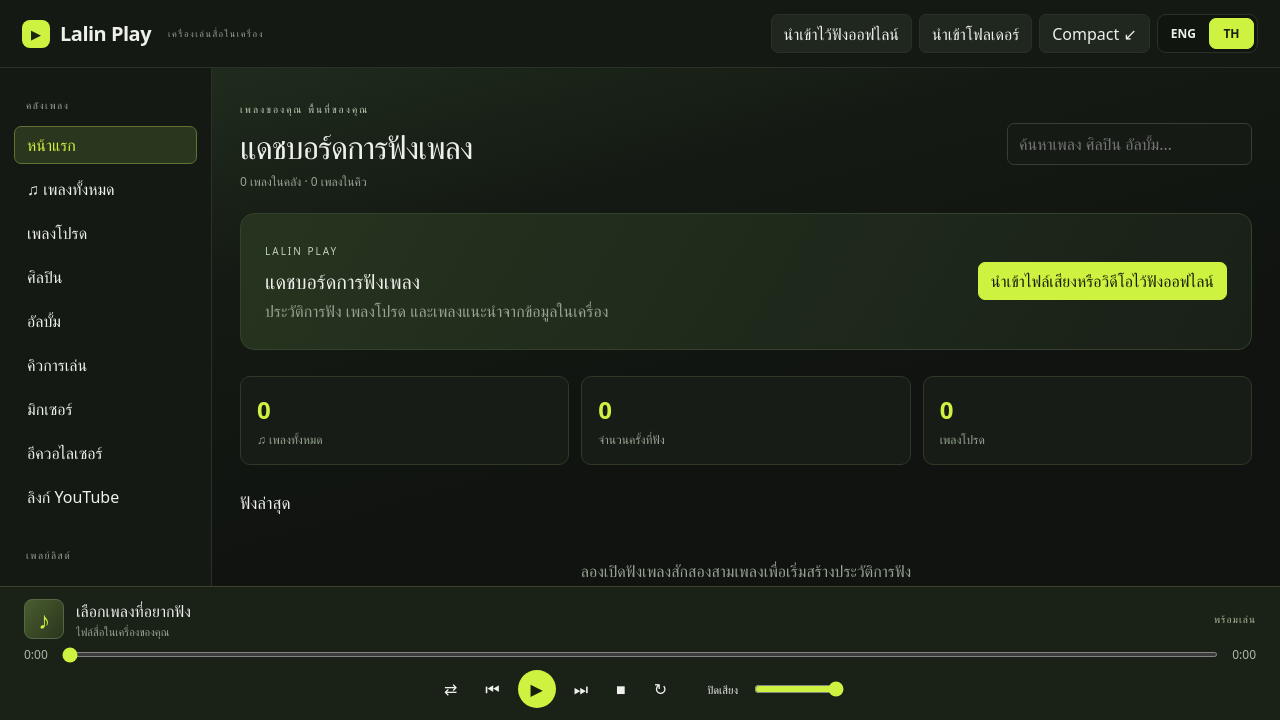
it: standalone surfaces (mocked IPC; native evidence is separate) › exposes only real media/master mixer channels and persists media controls
Click the button "มิกเซอร์" at coordinates (106, 409), box [14,390,197,428]
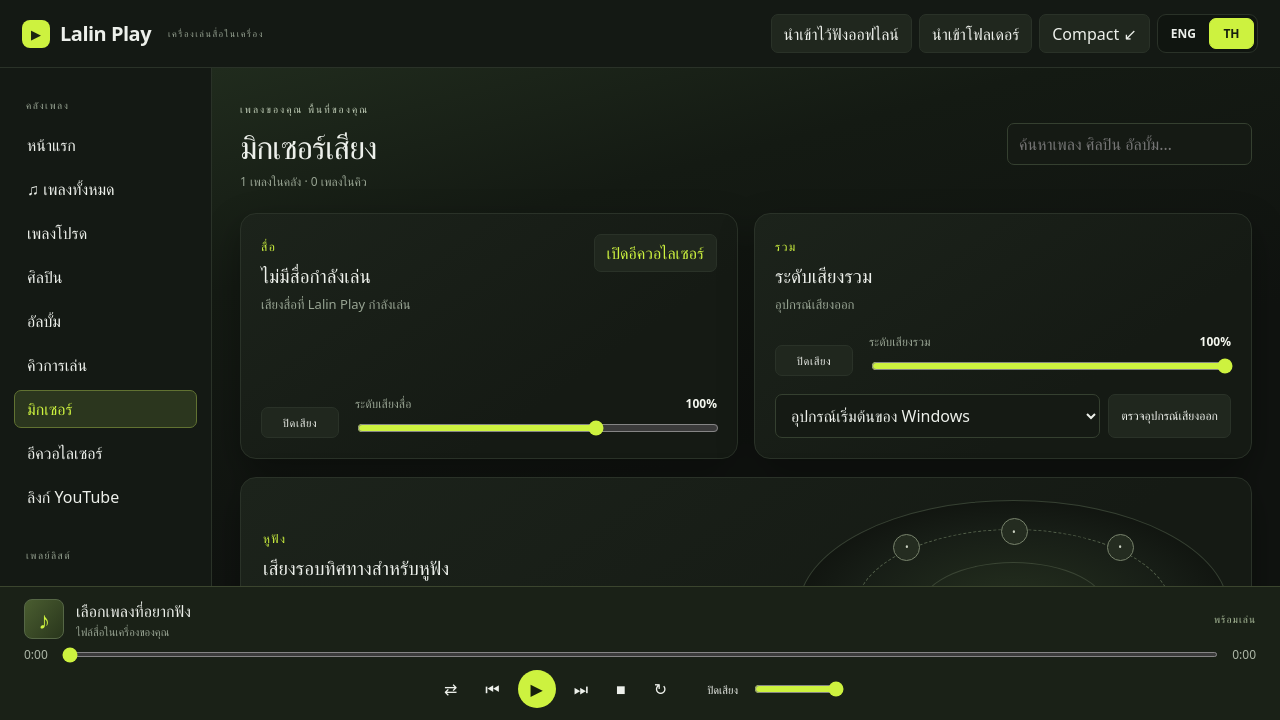
Expected: the text "สื่อ" is shown, [261,238,276,255]
Expected: the text "รวม" is shown, [775,238,797,255]
Set the slider named "ระดับเสียงสื่อ" to "1.25" at coordinates (653, 428), box [357,420,719,436]
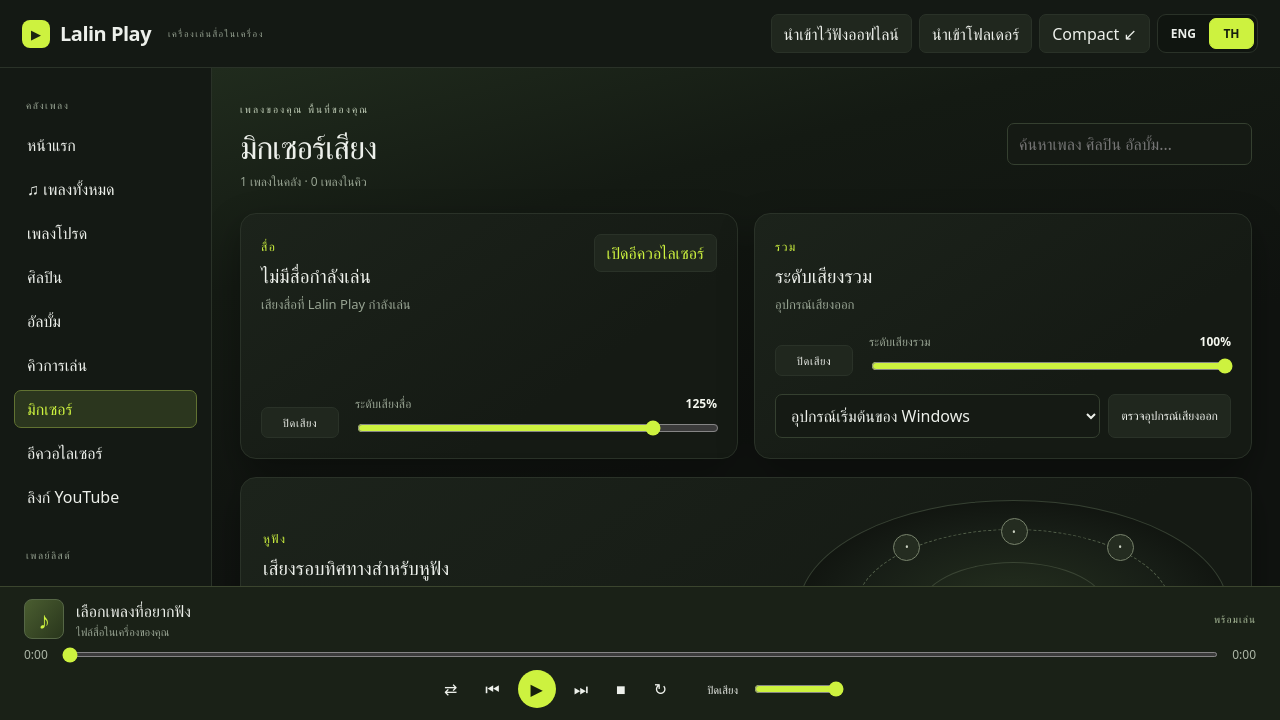
Click the button with aria-label "ปิดเสียงช่องสื่อ" at coordinates (300, 422), box [261,407,339,438]
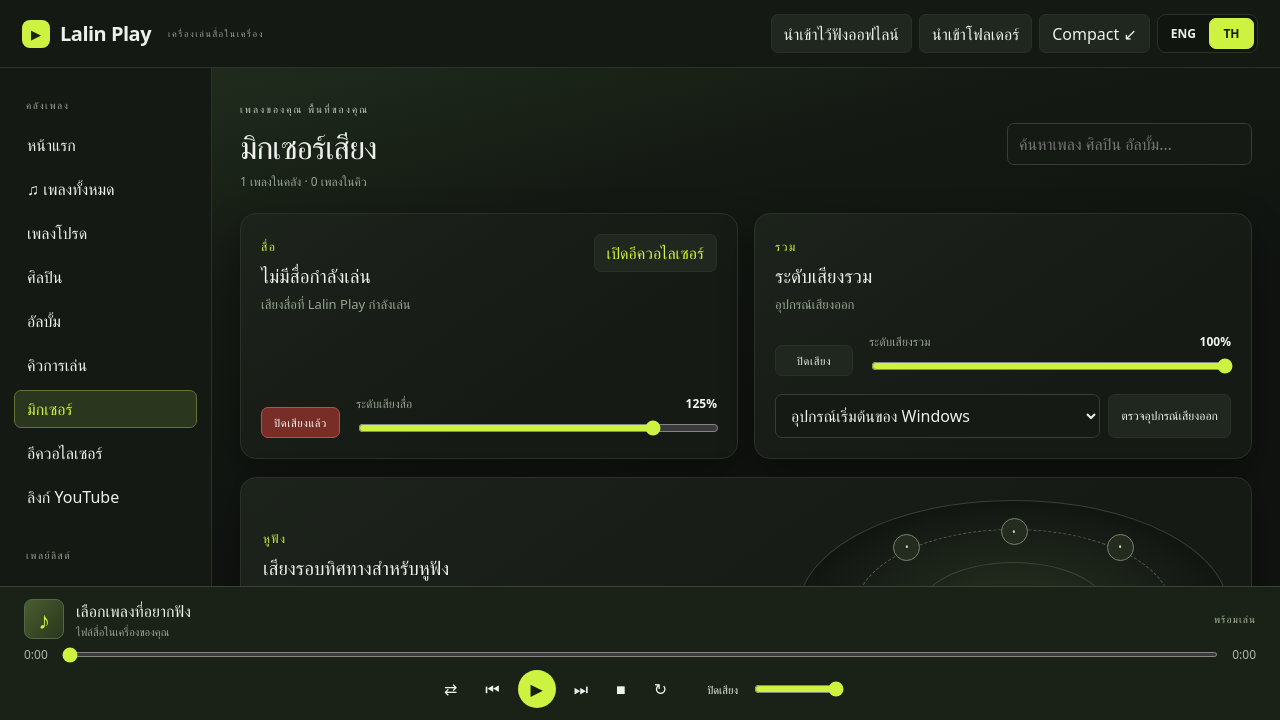
Expected: the button "ปิดเสียงแล้ว" is shown, [261,407,340,438]
Click the button "เปิดอีควอไลเซอร์" at coordinates (655, 253), box [594,234,717,272]
(page scrolled)
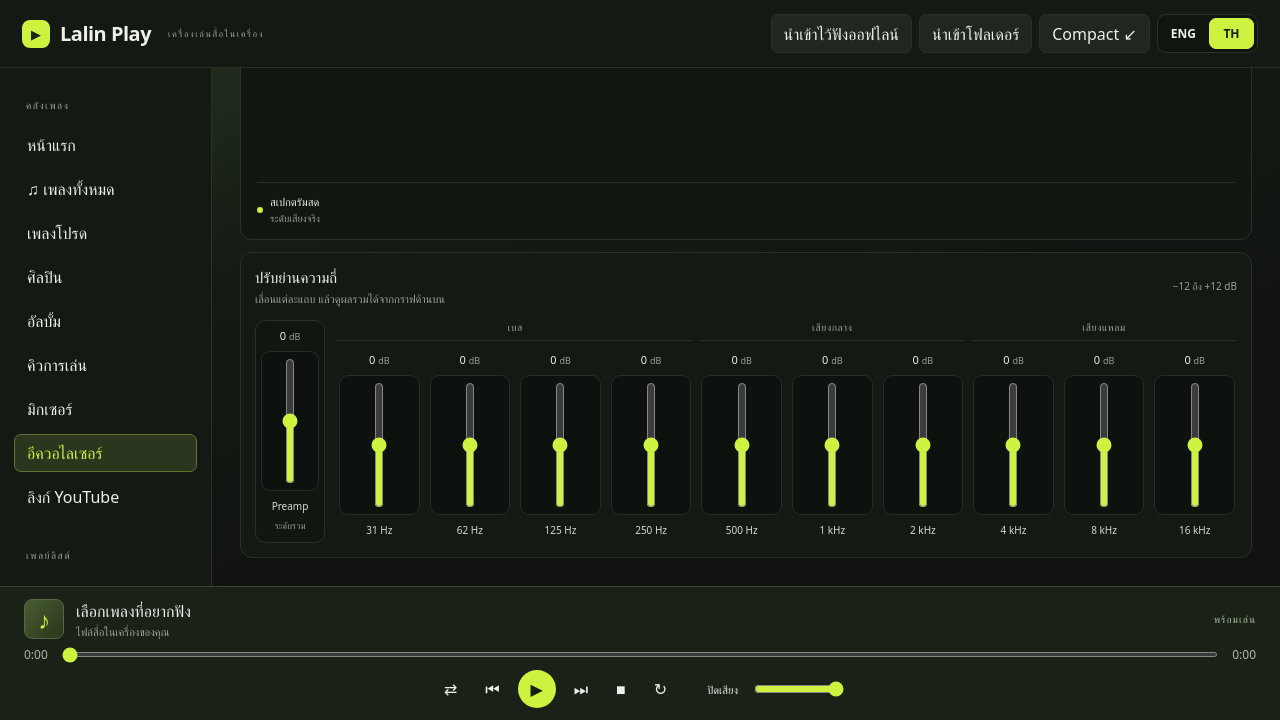
Expected: the element named "ปรับระดับแต่ละย่าน EQ" is shown, [240,252,1252,558]
